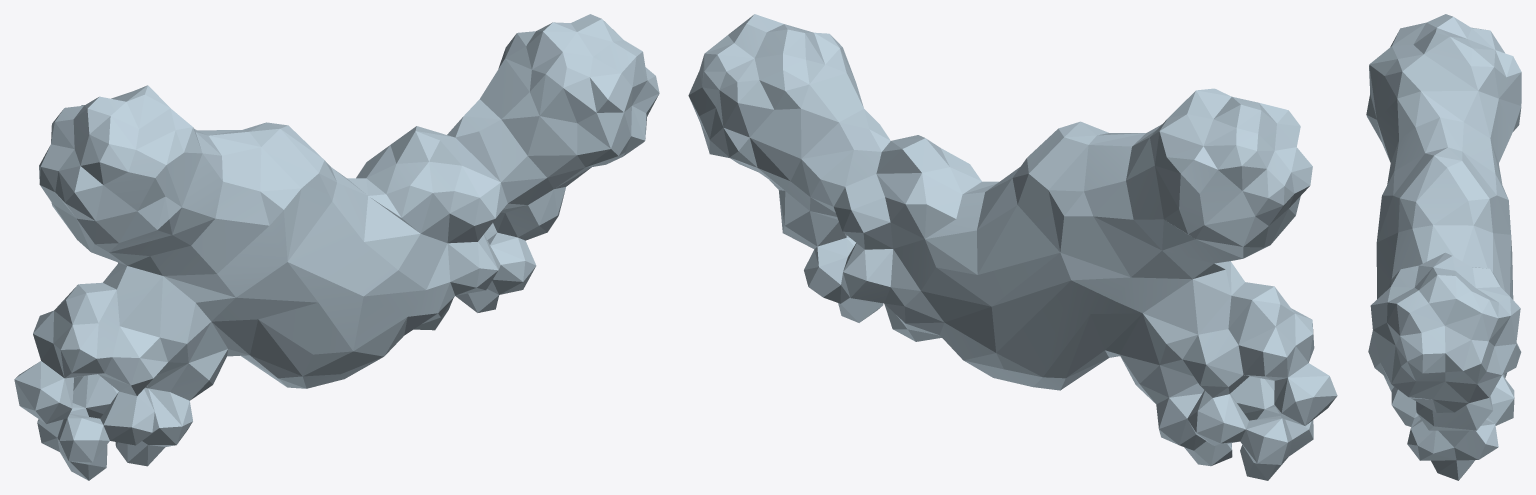
File: stylize_cloud_10.fbx
3 views of the same model, side by side, from view 1: azimuth 30°, elevation 25°; view 2: azimuth 150°, elevation 25°; view 3: azimuth 270°, elevation 25° (orthographic). The views are drawn at different scales.
Visible parts, largest first — view 1: cloud_90; view 2: cloud_90; view 3: cloud_90.
Part boxes in pixels (x1,y1,x2,y2): cloud_90: [14, 14, 659, 480]; cloud_90: [688, 14, 1337, 480]; cloud_90: [1366, 14, 1521, 480].
Size of the model in its own units: 747 by 430 by 174.
